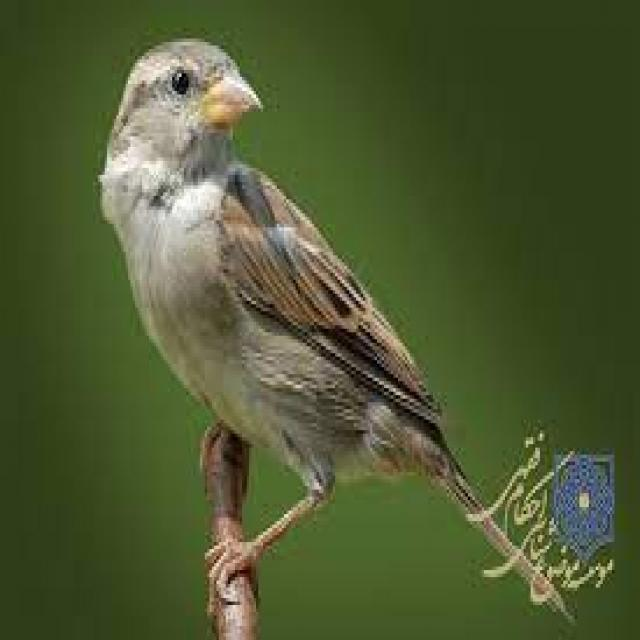bird: (92, 27, 490, 603)
